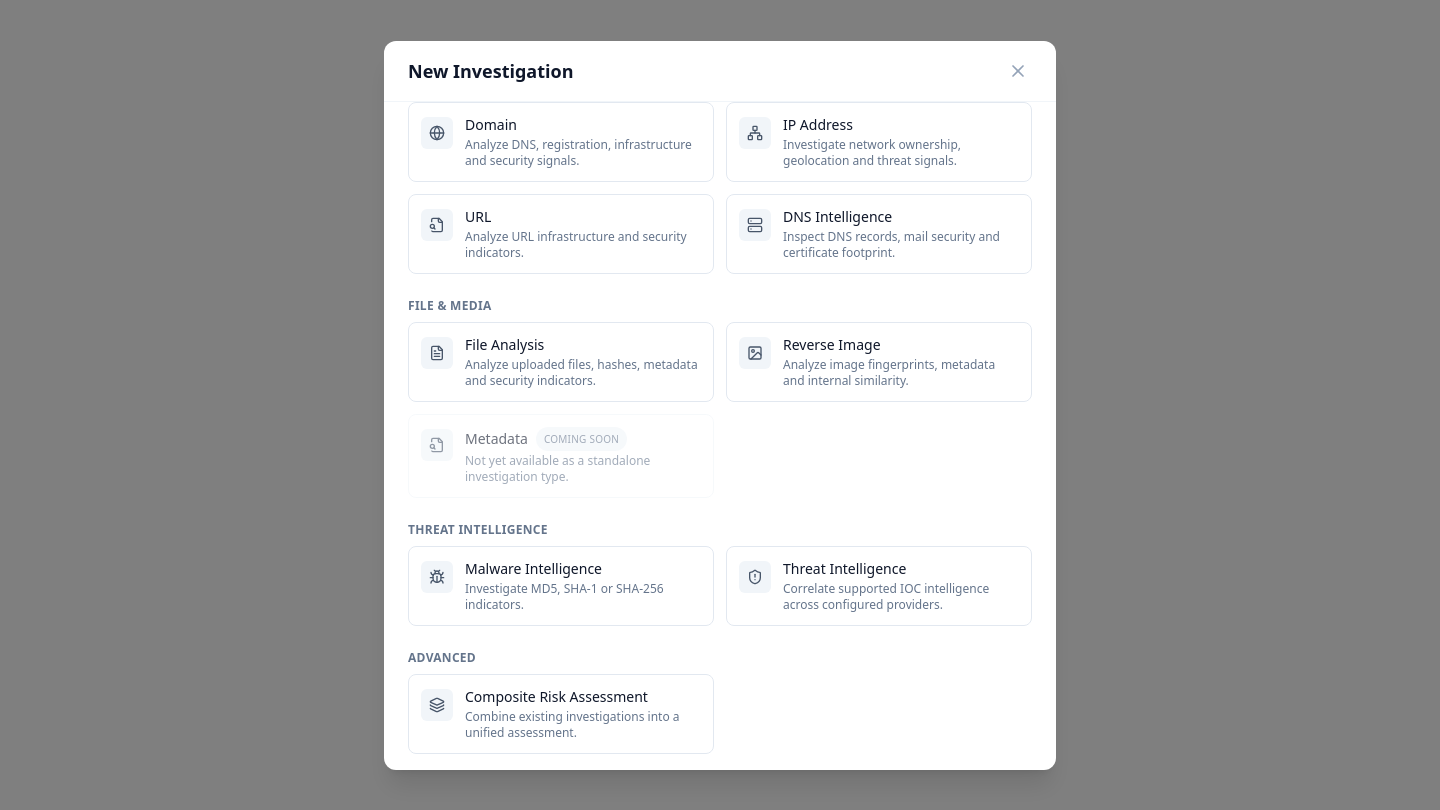
Test case: NewInvestigationModal › requires at least two selections for Composite Risk Assessment
The image size is (1440, 810).
(page scrolled)
Step 1. Click the button with aria-label "Start a Composite Risk Assessment investigation" → coordinates (561, 714), box [408,674,714,754]
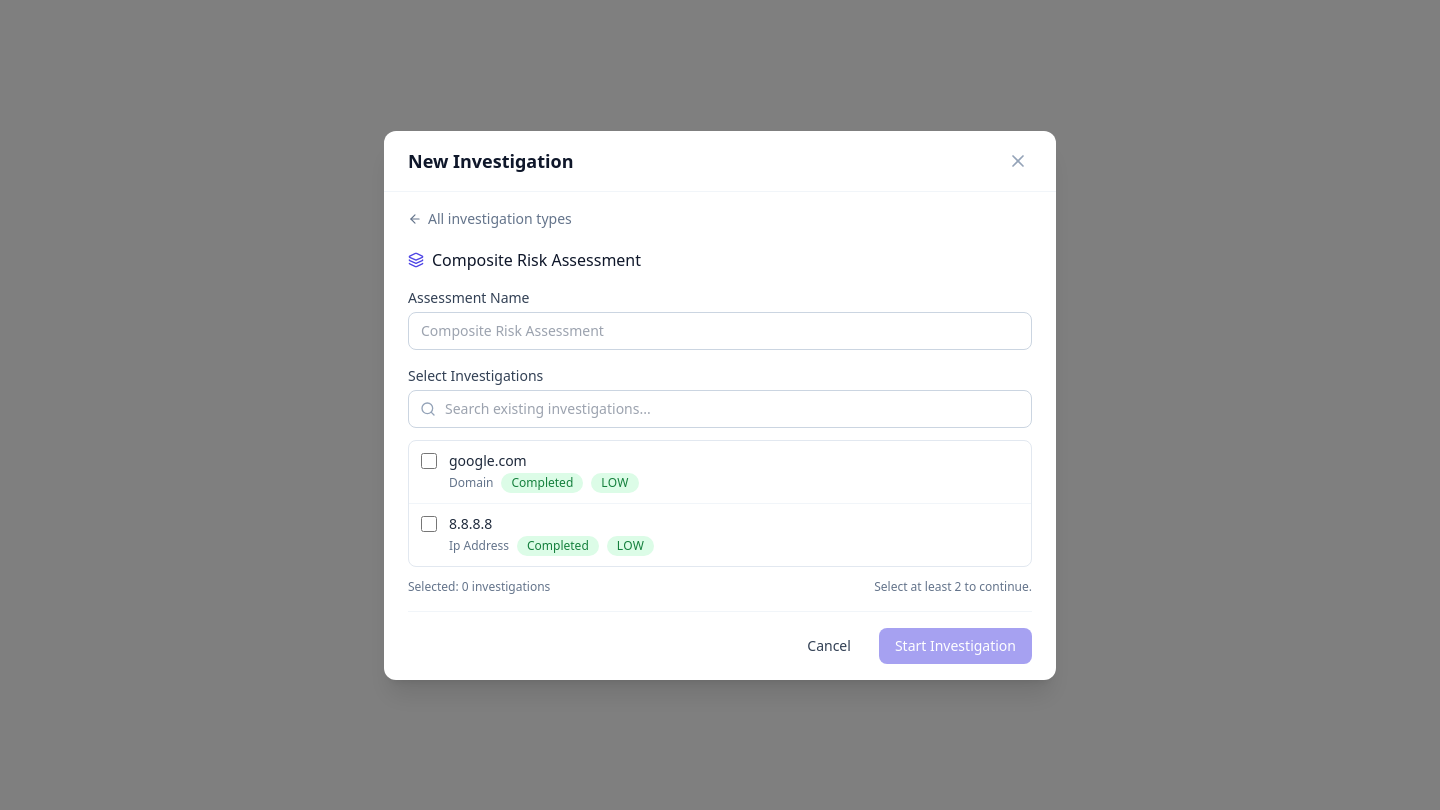
Now the text "google.com" is shown, box [449,450,527,470]
Now the button "Start Investigation" is disabled, box [879,628,1032,664]
Step 2. Click the option "google.com domain completed low" → coordinates (429, 460), box [421,452,437,468]
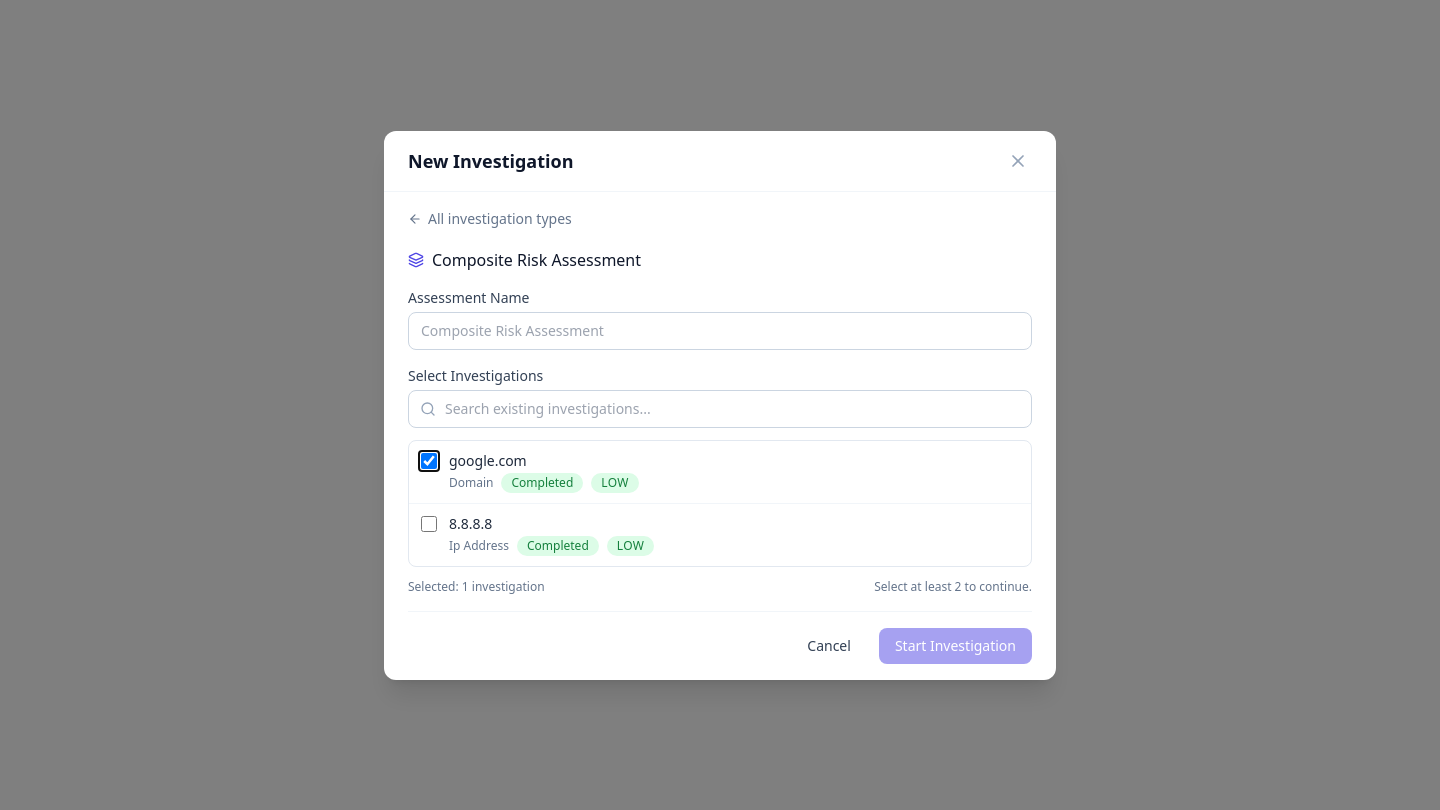
Now the button "Start Investigation" is disabled, box [879,628,1032,664]
Step 3. Click the option "8.8.8.8 ip address completed low" → coordinates (429, 524), box [421,516,437,532]
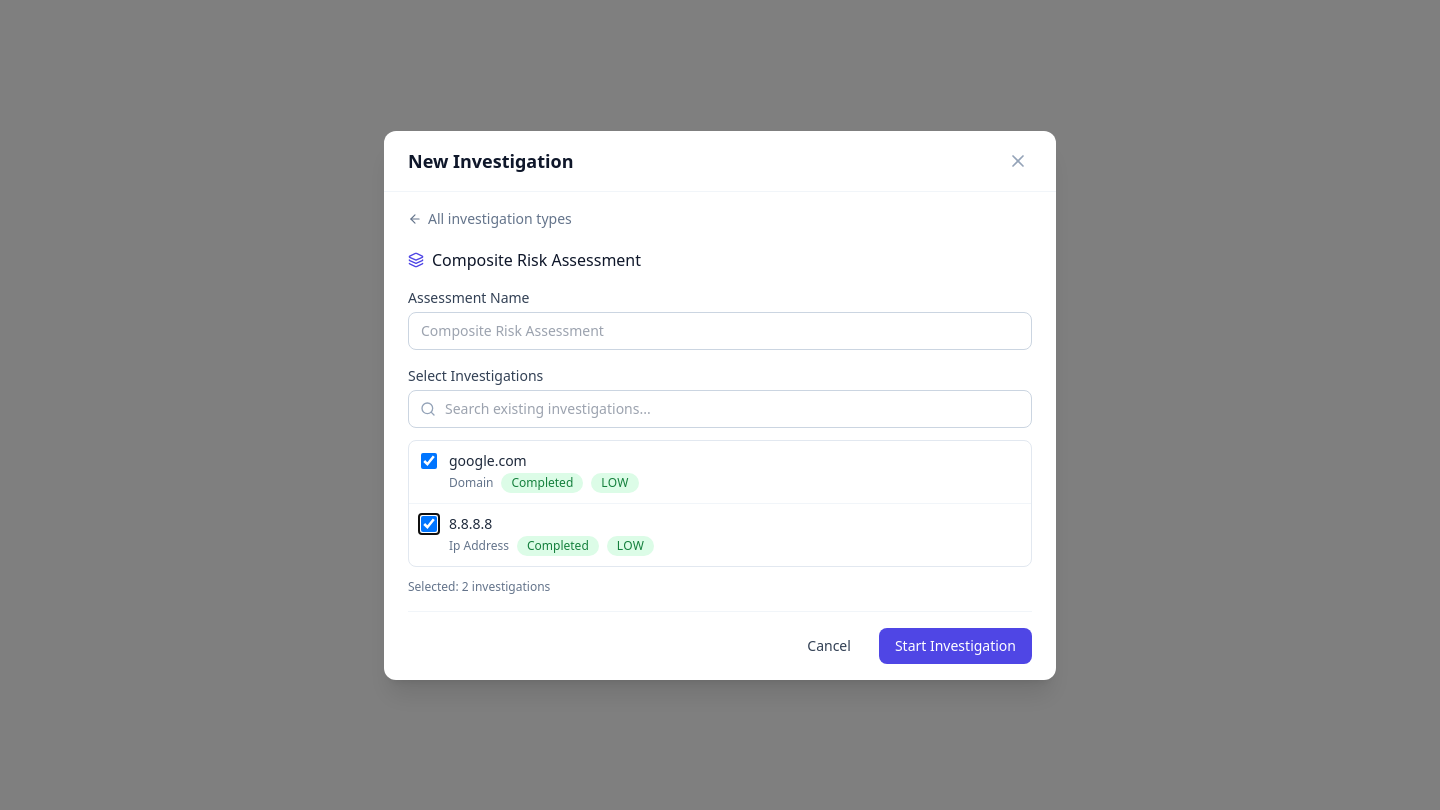
Now the button "Start Investigation" is enabled, box [879,628,1032,664]
